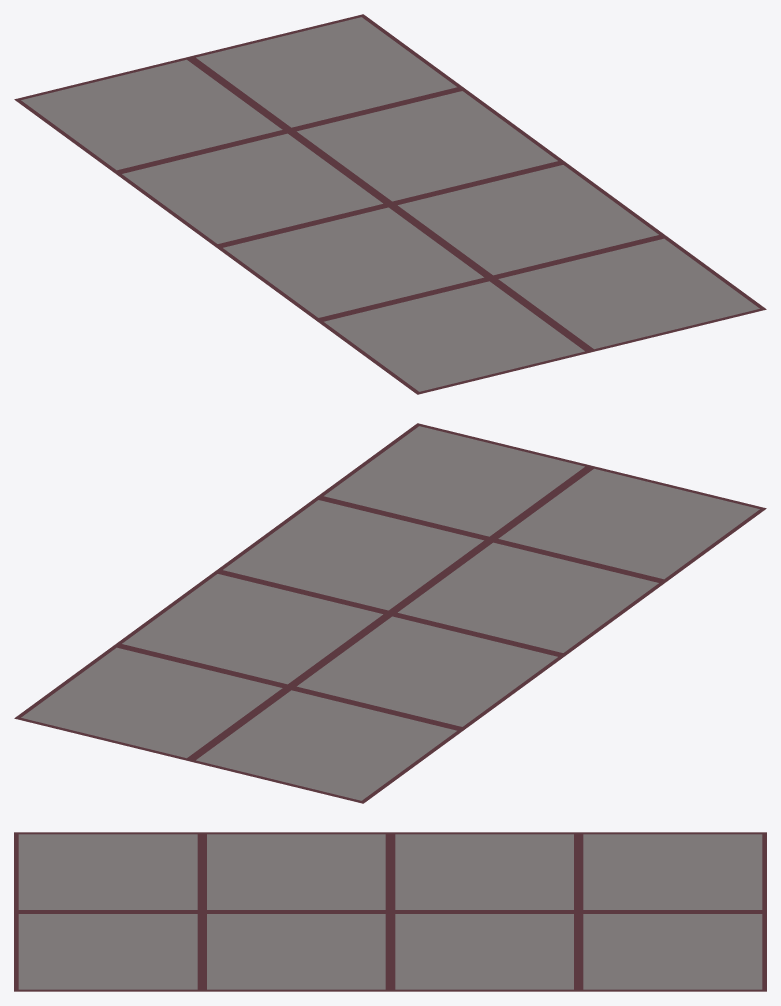
Rendered from scifi-scifi-floor-narrow.glb.
3 renders of one model, top to bottom at view 1: azimuth 30°, elevation 25°; view 2: azimuth 150°, elevation 25°; view 3: azimuth 270°, elevation 25°, orthographic. The views are drawn at different scales.
Visible parts, largest first — view 1: scifi-floor-narrow-metal; view 2: scifi-floor-narrow-metal; view 3: scifi-floor-narrow-metal.
Boxes of the visible parts, left/top/right/bottom form: scifi-floor-narrow-metal: left=14, top=14, right=766, bottom=394; scifi-floor-narrow-metal: left=14, top=423, right=766, bottom=803; scifi-floor-narrow-metal: left=14, top=832, right=766, bottom=991.
Bounding box in the file's own units: 2 × 0 × 4.
